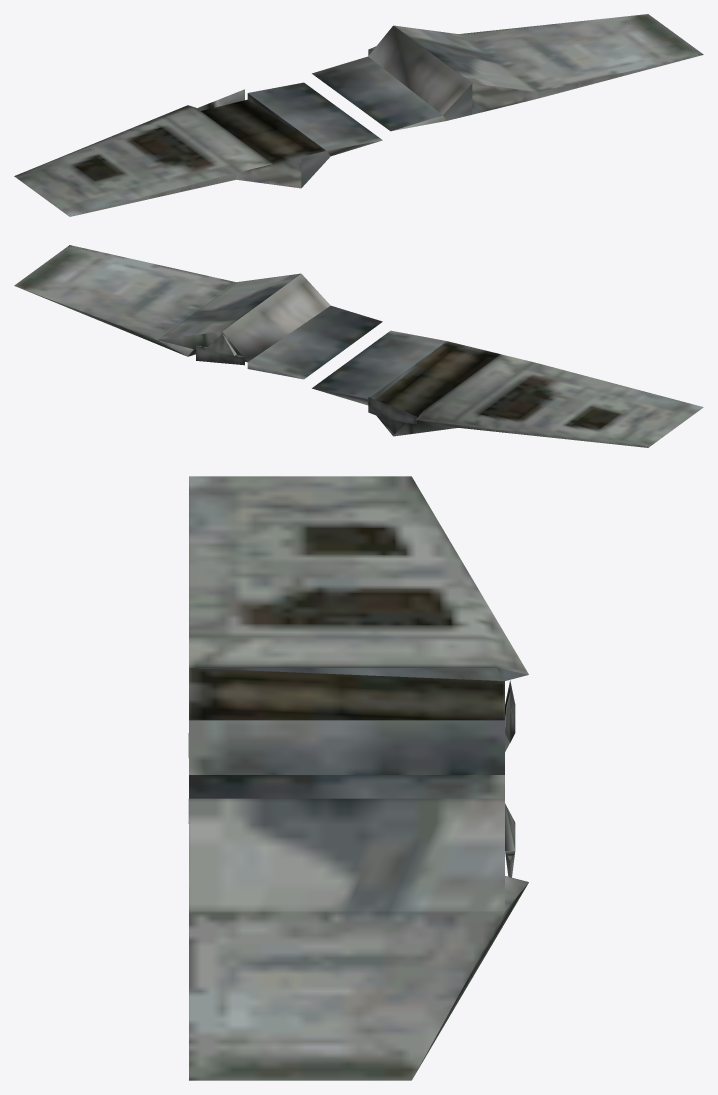
Rendered from xwing_wing_neg_l2.fbx.
3 renders of one model, top to bottom at view 1: azimuth 30°, elevation 25°; view 2: azimuth 150°, elevation 25°; view 3: azimuth 270°, elevation 25°, orthographic. The views are drawn at different scales.
Visible parts, largest first — view 1: mesh_node; view 2: mesh_node; view 3: mesh_node.
Boxes of the visible parts, <box> form: mesh_node: <box>14,14,703,216</box>; mesh_node: <box>14,245,703,447</box>; mesh_node: <box>188,476,528,1080</box>.
Bounding box in the file's own units: 12.97 × 1.24 × 3.01.
Materials: 1 (1 with a texture image).
